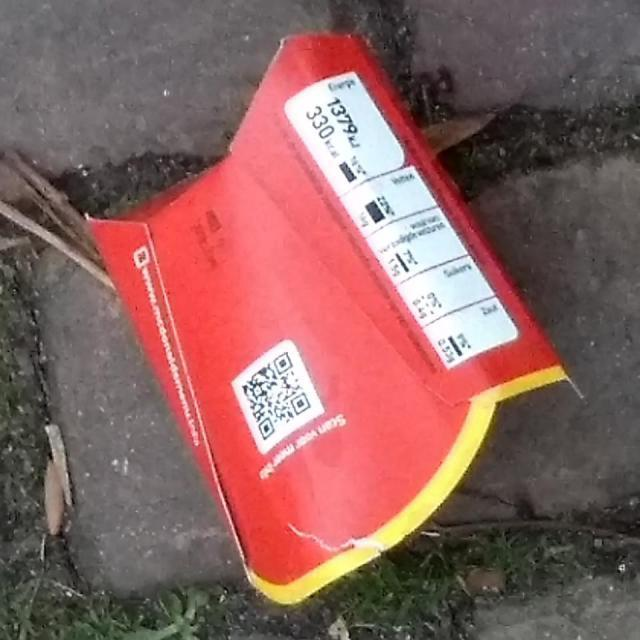Paper: (78, 28, 590, 612)
